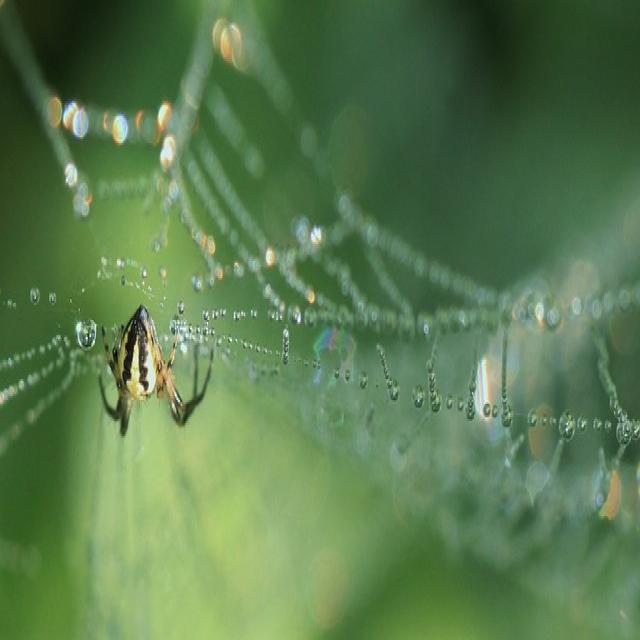spyder: (100, 305, 212, 435)
